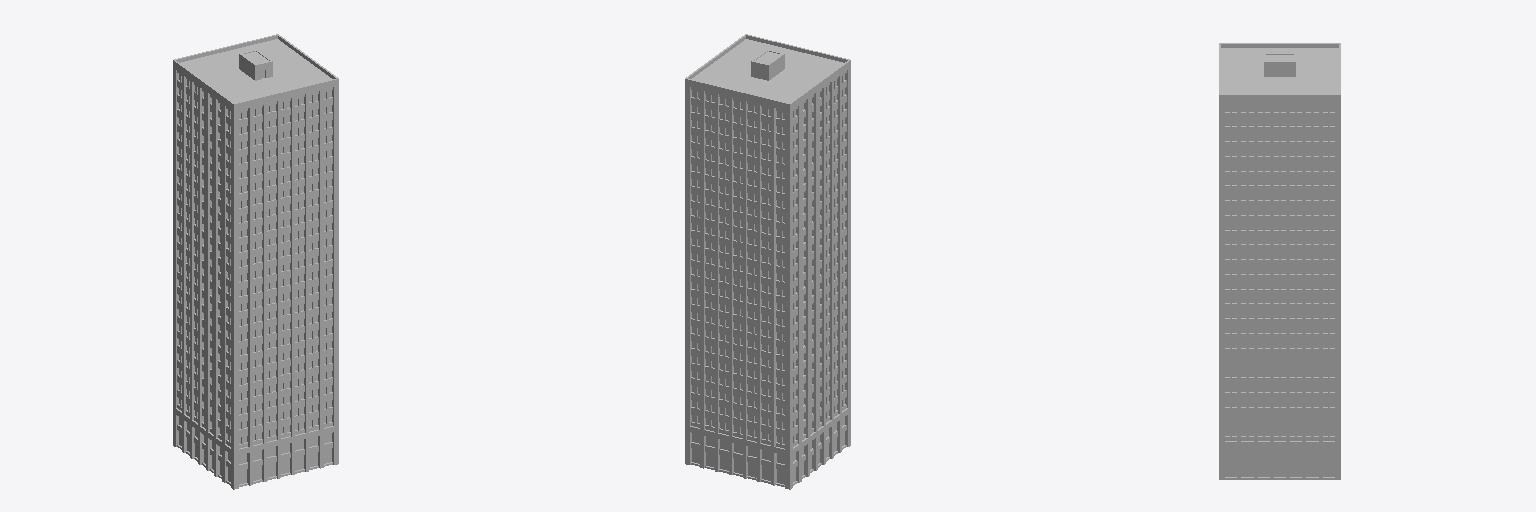
File: Building2.obj
3 renders of one model, left to right at view 1: azimuth 30°, elevation 25°; view 2: azimuth 150°, elevation 25°; view 3: azimuth 270°, elevation 25°, orthographic.
Parts seen in each view (by area): view 1: s3; view 2: s3; view 3: s3.
Boxes of the visible parts, <box> form: s3: <box>173,34,338,489</box>; s3: <box>685,34,850,489</box>; s3: <box>1219,43,1340,479</box>.
Size of the model in its own units: 30 by 108 by 30.